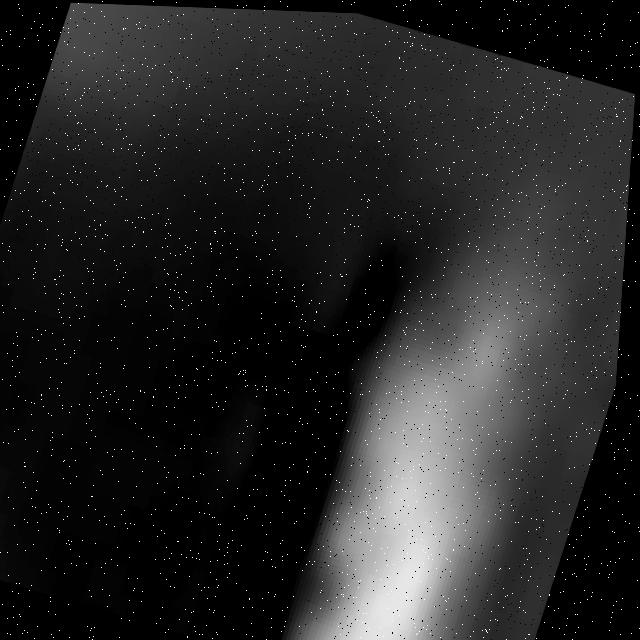person: (256, 188, 609, 640)
